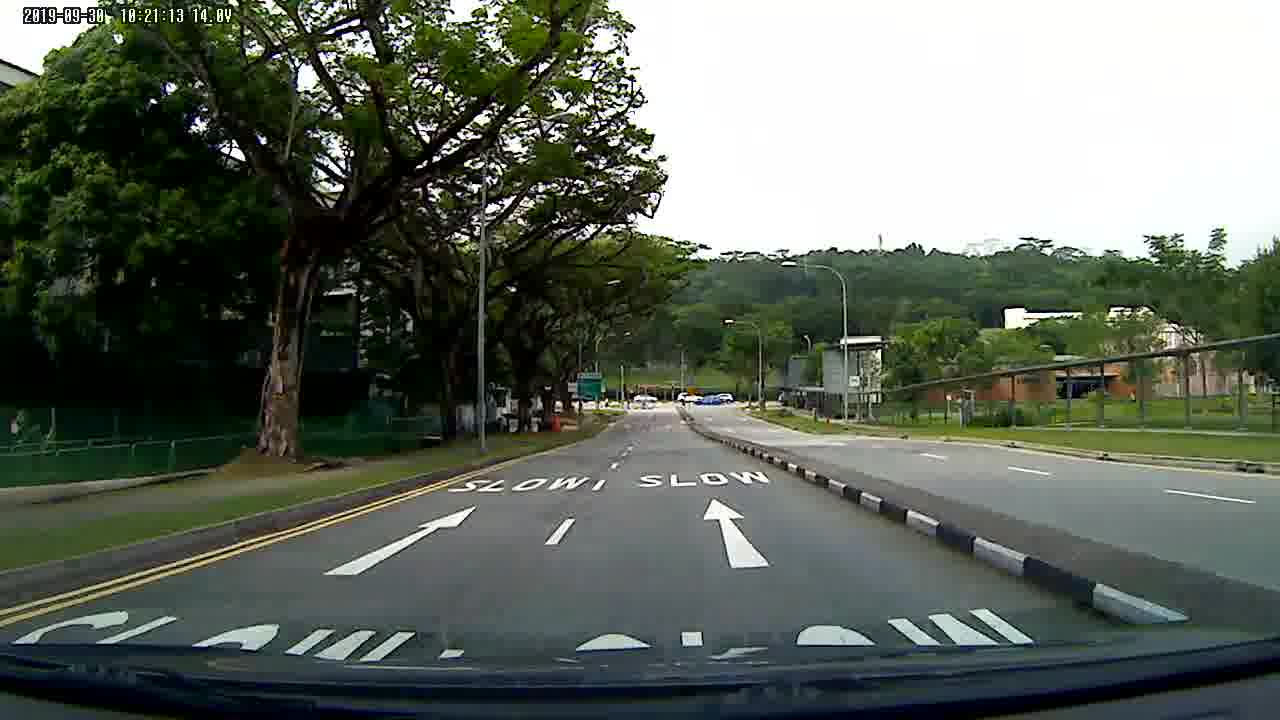car: (701, 392, 729, 407), (676, 390, 704, 403), (635, 391, 659, 405)
